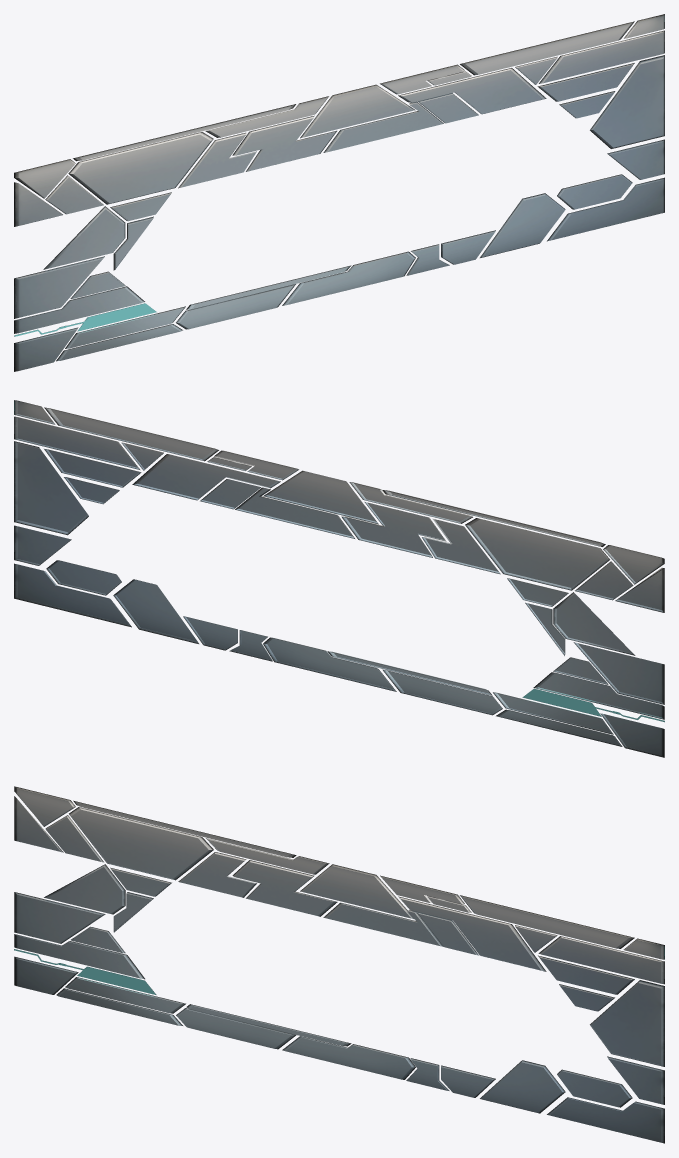
File: SciFi_Conf_Room_Panel_04.FBX
3 views of the same model, one above another, from view 1: azimuth 30°, elevation 25°; view 2: azimuth 150°, elevation 25°; view 3: azimuth 330°, elevation 25° (orthographic).
Parts seen in each view (by area): view 1: SciFi_Conf_Room_Panel_04; view 2: SciFi_Conf_Room_Panel_04; view 3: SciFi_Conf_Room_Panel_04.
Boxes of the visible parts, left/top/right/bottom form: SciFi_Conf_Room_Panel_04: left=14, top=14, right=664, bottom=371; SciFi_Conf_Room_Panel_04: left=14, top=400, right=664, bottom=757; SciFi_Conf_Room_Panel_04: left=14, top=786, right=664, bottom=1143.
Size of the model in its own units: 11205 by 3276 by 31.29.
